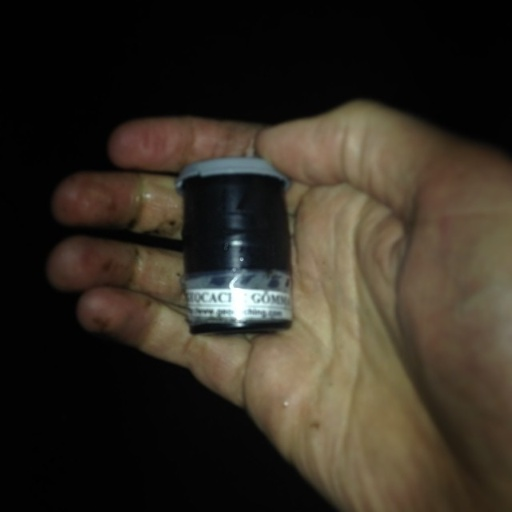hand: (35, 105, 491, 475)
